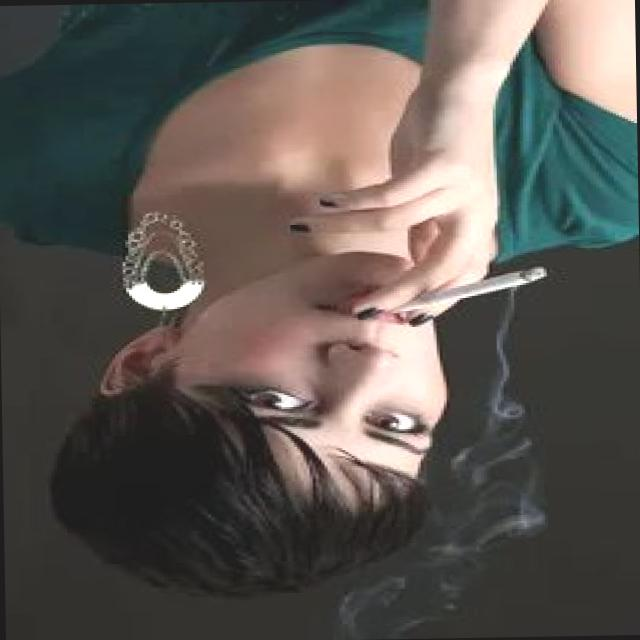cigarette: (374, 266, 550, 317)
